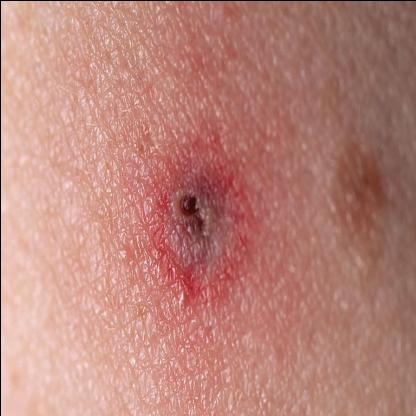Tick: (143, 127, 256, 311)
